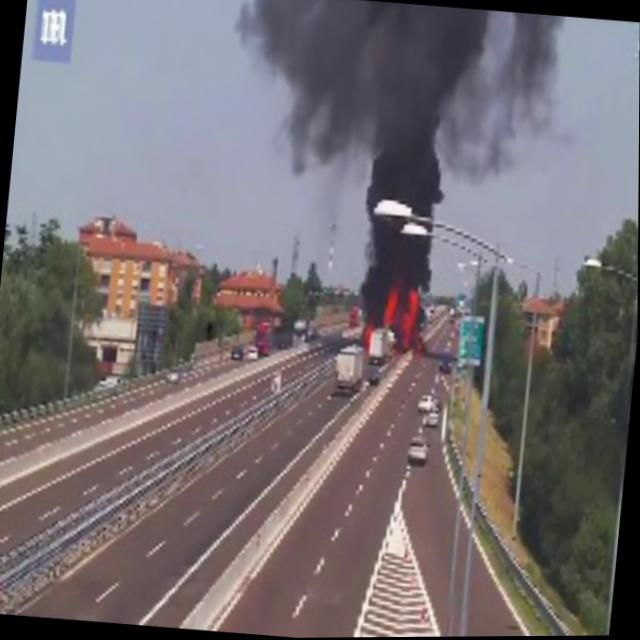fire: (386, 284, 421, 335)
smoke: (285, 0, 477, 196), (465, 13, 577, 183), (215, 0, 297, 76), (362, 230, 391, 317)
